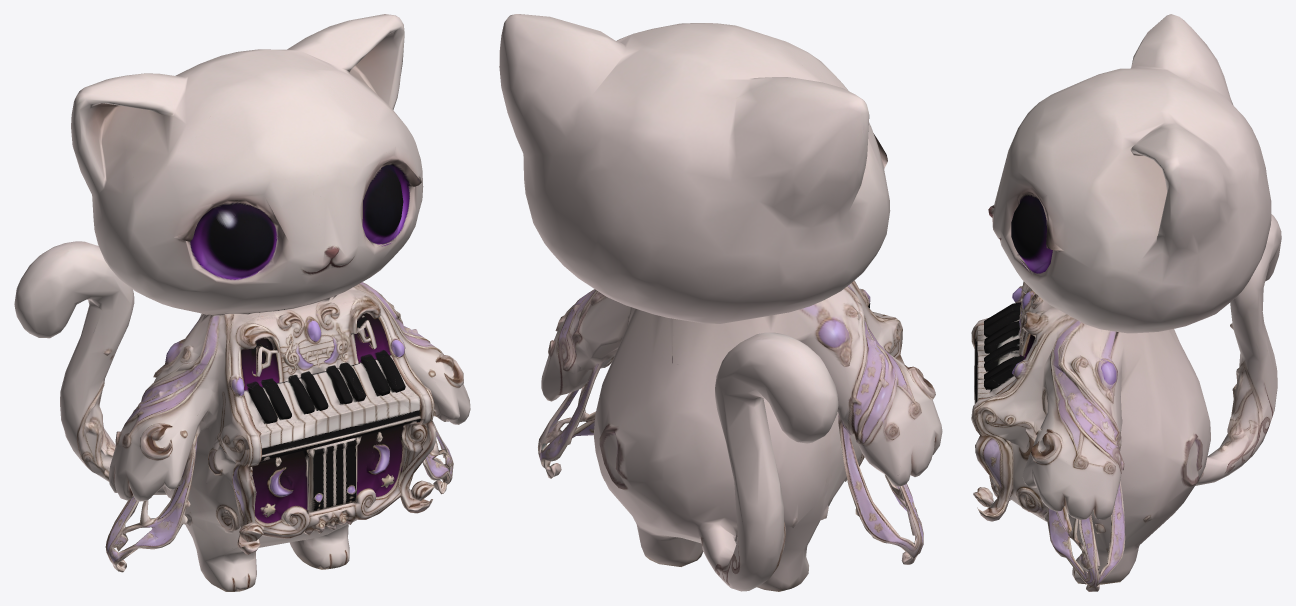
3 views of the same model, side by side, from view 1: azimuth 30°, elevation 25°; view 2: azimuth 150°, elevation 25°; view 3: azimuth 270°, elevation 25° (orthographic). The views are drawn at different scales.
Parts seen in each view (by area): view 1: Mesh_0; view 2: Mesh_0; view 3: Mesh_0.
Part boxes in pixels (x1,y1,x2,y2): Mesh_0: (14,14,470,591); Mesh_0: (499,14,942,591); Mesh_0: (971,14,1281,591).
Bounding box in the file's own units: 1.41 × 1.9 × 1.13.
1 material, 1 textured.
